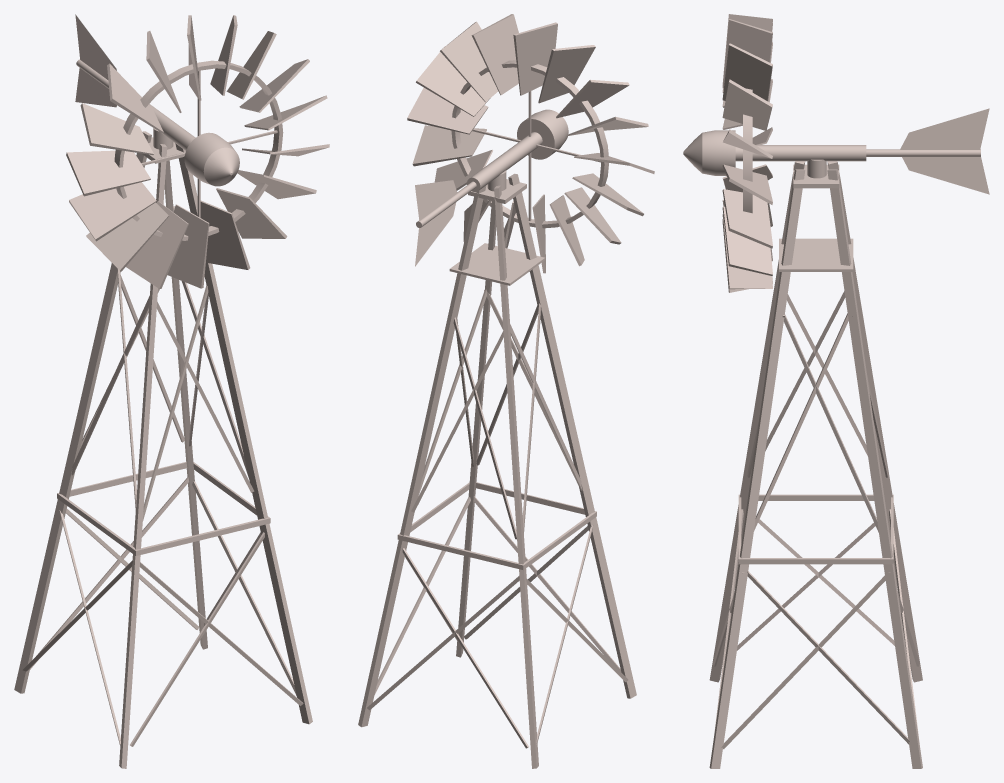
File: catavento fazenda.fbx
The picture shows the model from 3 angles, left to right: view 1: azimuth 30°, elevation 25°; view 2: azimuth 150°, elevation 25°; view 3: azimuth 270°, elevation 25°; orthographic projection. The views are drawn at different scales.
Visible parts, largest first — view 1: Old Farm Windmill; view 2: Old Farm Windmill; view 3: Old Farm Windmill.
Part boxes in pixels (box(x1,y1,x2,y2)): Old Farm Windmill: box(14, 14, 329, 768); Old Farm Windmill: box(358, 14, 654, 768); Old Farm Windmill: box(683, 14, 989, 768).
Size of the model in its own units: 307 by 848 by 338.
